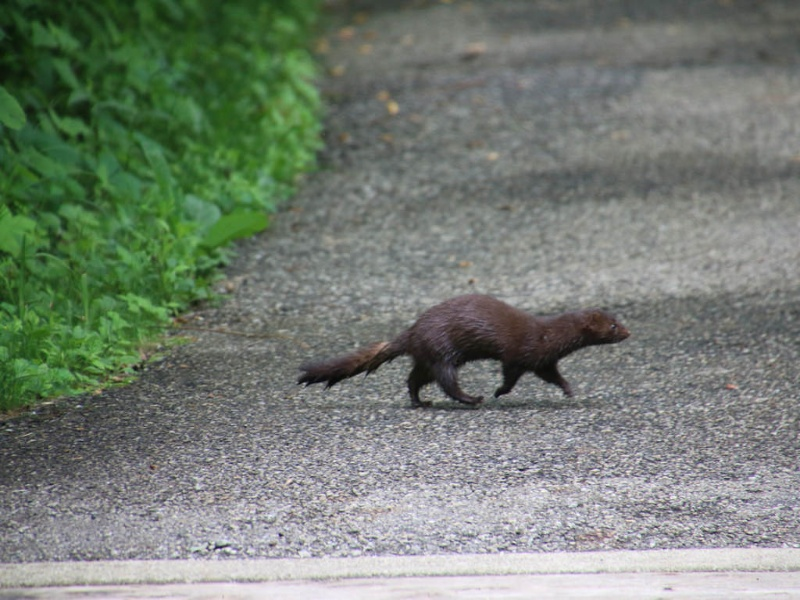minkish: (297, 297, 631, 408)
